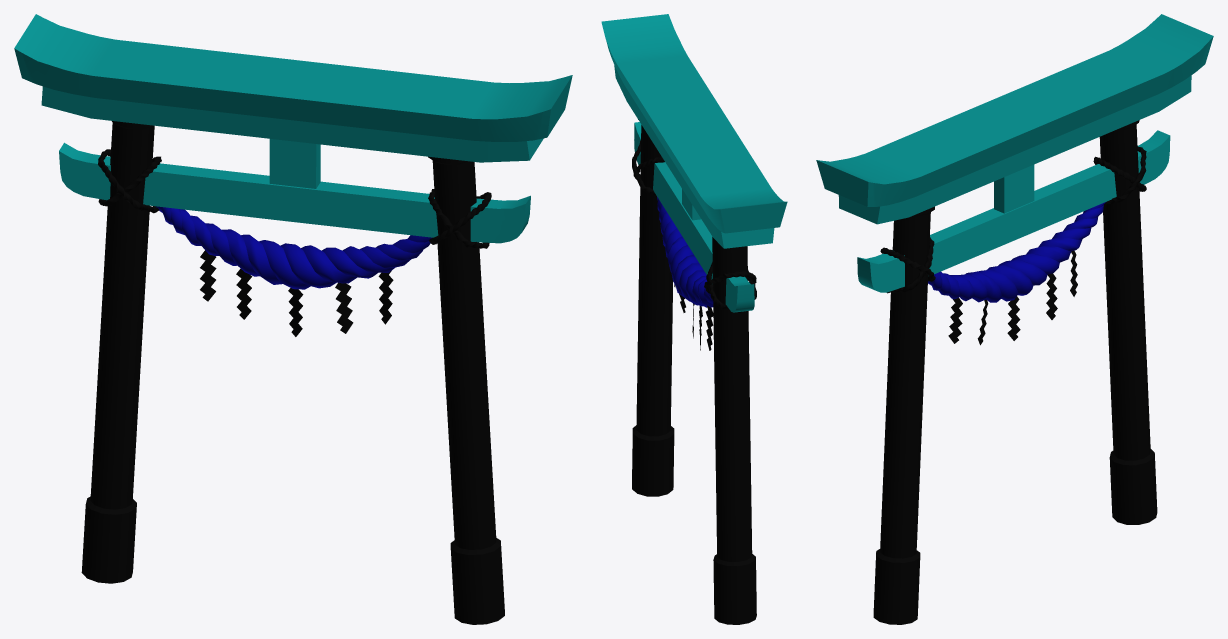
File: SM_ENV_LKNVLD_Shop_Tori_Lod1.gltf
3 views of the same model, side by side, from view 1: azimuth 30°, elevation 25°; view 2: azimuth 150°, elevation 25°; view 3: azimuth 270°, elevation 25° (orthographic). The views are drawn at different scales.
Parts seen in each view (by area): view 1: SM_ENV_LKNVLD_Shop_Tori_Lod1; view 2: SM_ENV_LKNVLD_Shop_Tori_Lod1; view 3: SM_ENV_LKNVLD_Shop_Tori_Lod1.
Part boxes in pixels (<box>): SM_ENV_LKNVLD_Shop_Tori_Lod1: <box>14,14,572,624</box>; SM_ENV_LKNVLD_Shop_Tori_Lod1: <box>601,14,787,624</box>; SM_ENV_LKNVLD_Shop_Tori_Lod1: <box>816,14,1213,624</box>.
Size of the model in its own units: 8.12 by 10.56 by 8.12.
